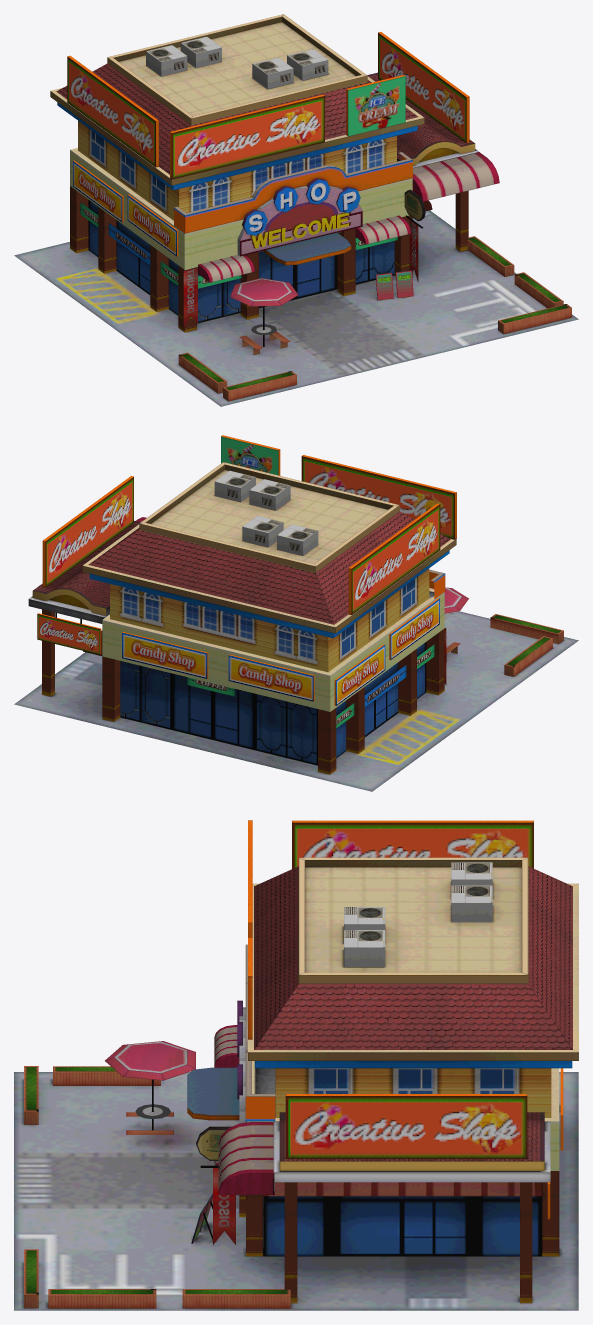
Rendered from tianpingwu.FBX.
3 renders of one model, top to bottom at view 1: azimuth 30°, elevation 25°; view 2: azimuth 150°, elevation 25°; view 3: azimuth 270°, elevation 25°, orthographic. The views are drawn at different scales.
Visible parts, largest first — view 1: tianpingwu; view 2: tianpingwu; view 3: tianpingwu.
Part boxes in pixels (x1=…): tianpingwu: x1=14, y1=14, x2=578, y2=406; tianpingwu: x1=14, y1=435, x2=578, y2=791; tianpingwu: x1=14, y1=820, x2=578, y2=1310.
Bounding box in the file's own units: 1342 × 726 × 1343.
Materials: 1 (1 with a texture image).
